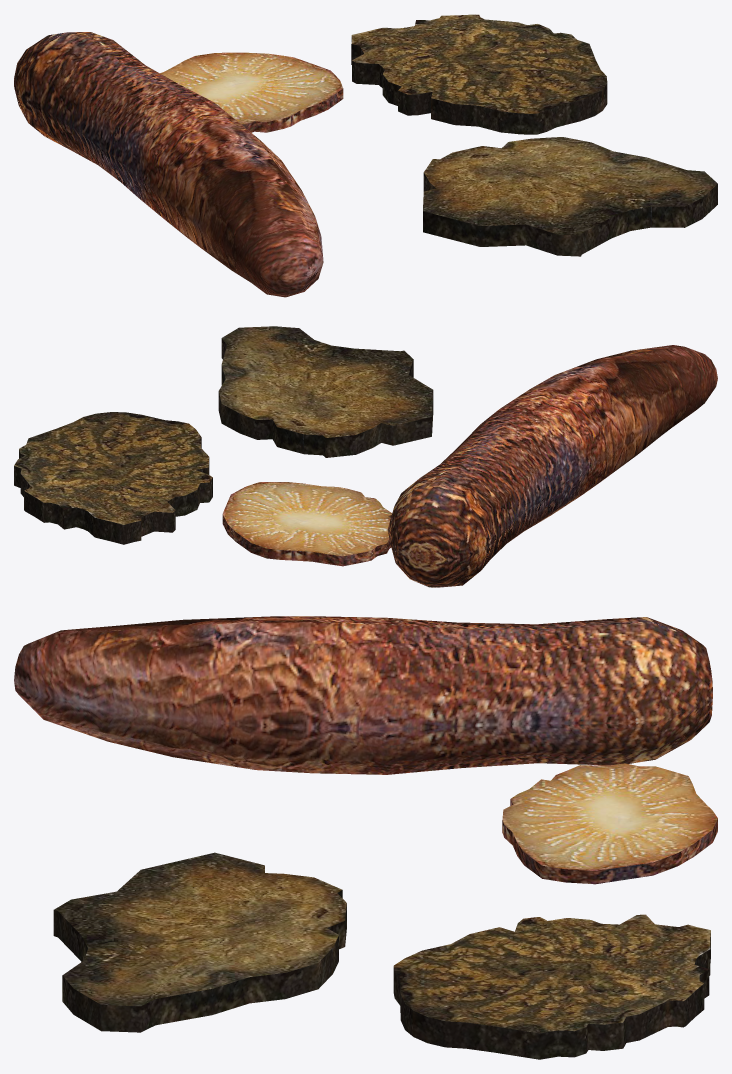
File: roucongrong.FBX
3 views of the same model, one above another, from view 1: azimuth 30°, elevation 25°; view 2: azimuth 150°, elevation 25°; view 3: azimuth 270°, elevation 25° (orthographic). The views are drawn at different scales.
Parts seen in each view (by area): view 1: Cylinder001, Line003, Line002, Line001; view 2: Cylinder001, Line003, Line002, Line001; view 3: Cylinder001, Line003, Line002, Line001.
Part boxes in pixels (x1,y1,x2,y2): Cylinder001: (14,32,323,297); Line003: (423,137,717,256); Line002: (351,14,607,134); Line001: (160,52,343,132); Cylinder001: (387,345,717,587); Line003: (218,326,433,457); Line002: (14,412,212,544); Line001: (222,482,392,566); Cylinder001: (14,616,712,774); Line003: (53,852,346,1032); Line002: (393,914,710,1059); Line001: (502,763,717,884).
Size of the model in its own units: 52.81 by 11.57 by 48.61.
